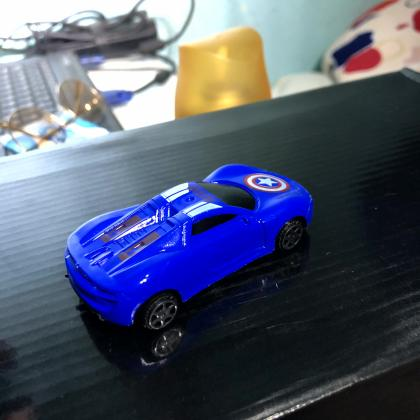Car: (63, 165, 314, 331)
